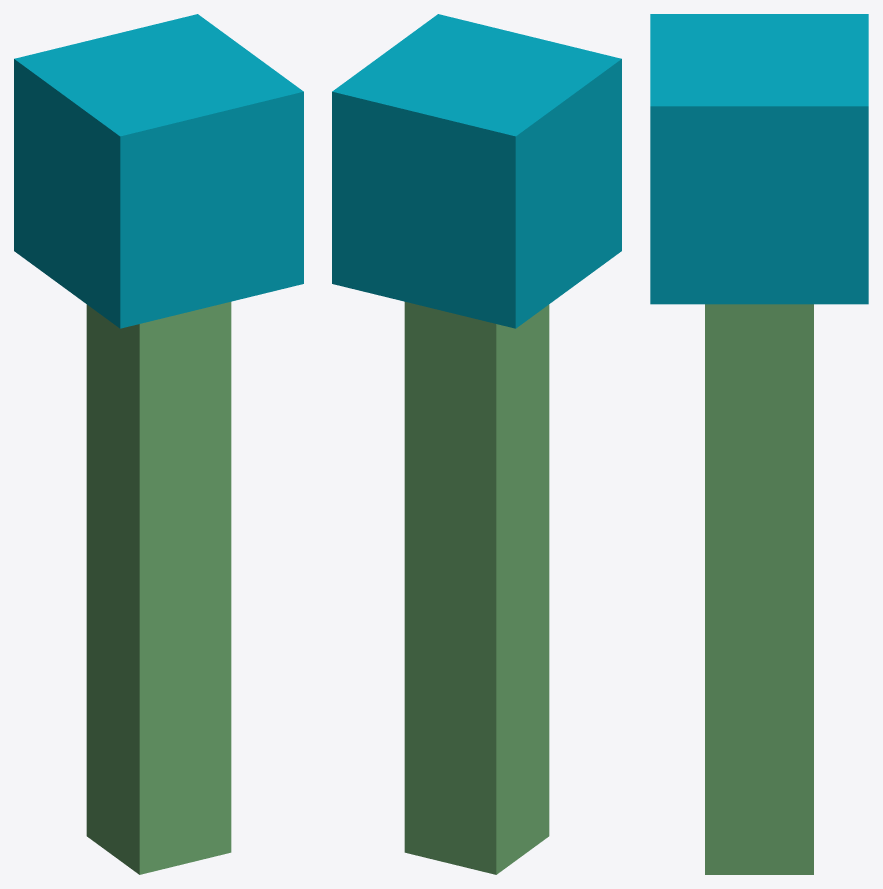
File: flower_2.glb
3 views of the same model, side by side, from view 1: azimuth 30°, elevation 25°; view 2: azimuth 150°, elevation 25°; view 3: azimuth 270°, elevation 25° (orthographic). The views are drawn at different scales.
Visible parts, largest first — view 1: Mesh_Mesh_head_geo.001_lambert2SG.001; view 2: Mesh_Mesh_head_geo.001_lambert2SG.001; view 3: Mesh_Mesh_head_geo.001_lambert2SG.001.
Boxes of the visible parts, x1,y1,x2,y2 form: Mesh_Mesh_head_geo.001_lambert2SG.001: (14,14,303,874); Mesh_Mesh_head_geo.001_lambert2SG.001: (332,14,621,874); Mesh_Mesh_head_geo.001_lambert2SG.001: (650,14,868,874).
Bounding box in the file's own units: 4 × 16 × 4.
